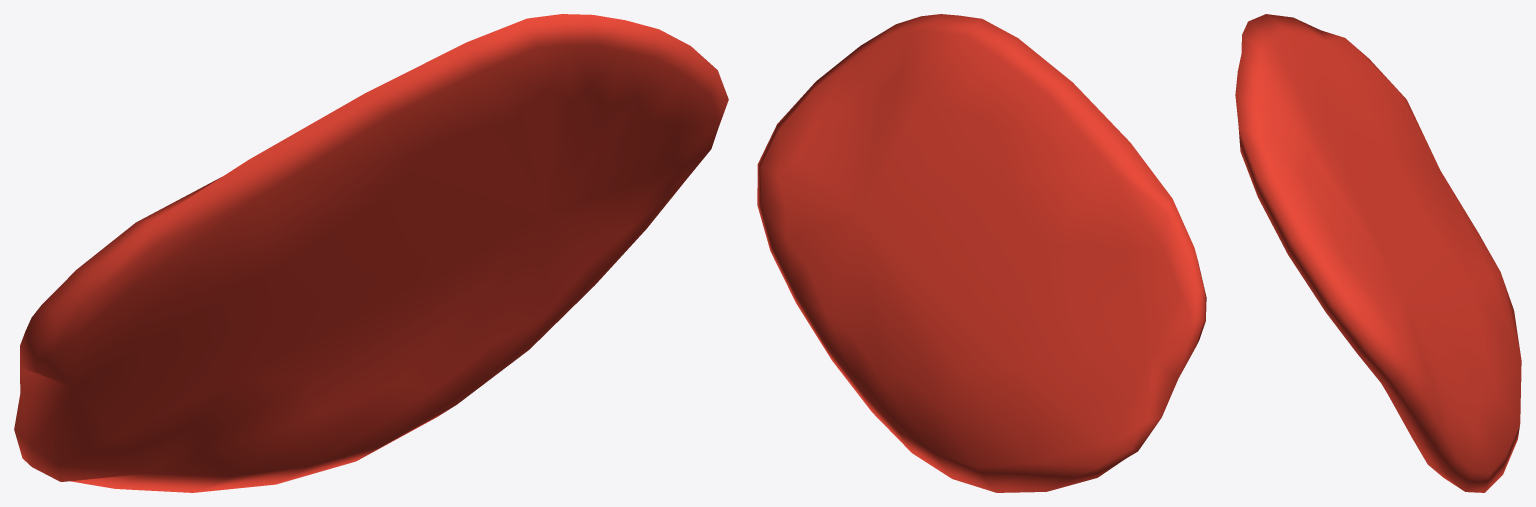
Rendered from Pronator_teres-Ulnar_insertion.r_Generated_Mesh_From_X3D.607.glb.
3 renders of one model, left to right at view 1: azimuth 30°, elevation 25°; view 2: azimuth 150°, elevation 25°; view 3: azimuth 270°, elevation 25°, orthographic. The views are drawn at different scales.
Parts seen in each view (by area): view 1: Pronator_teres-Ulnar_insertion.r_Generated_Mesh_From_X3D.607; view 2: Pronator_teres-Ulnar_insertion.r_Generated_Mesh_From_X3D.607; view 3: Pronator_teres-Ulnar_insertion.r_Generated_Mesh_From_X3D.607.
Part boxes in pixels (x1,y1,x2,y2): Pronator_teres-Ulnar_insertion.r_Generated_Mesh_From_X3D.607: (14,14,728,492); Pronator_teres-Ulnar_insertion.r_Generated_Mesh_From_X3D.607: (757,14,1206,492); Pronator_teres-Ulnar_insertion.r_Generated_Mesh_From_X3D.607: (1235,14,1521,492).
Bounding box in the file's own units: 0.00743 × 0.00578 × 0.0031.
